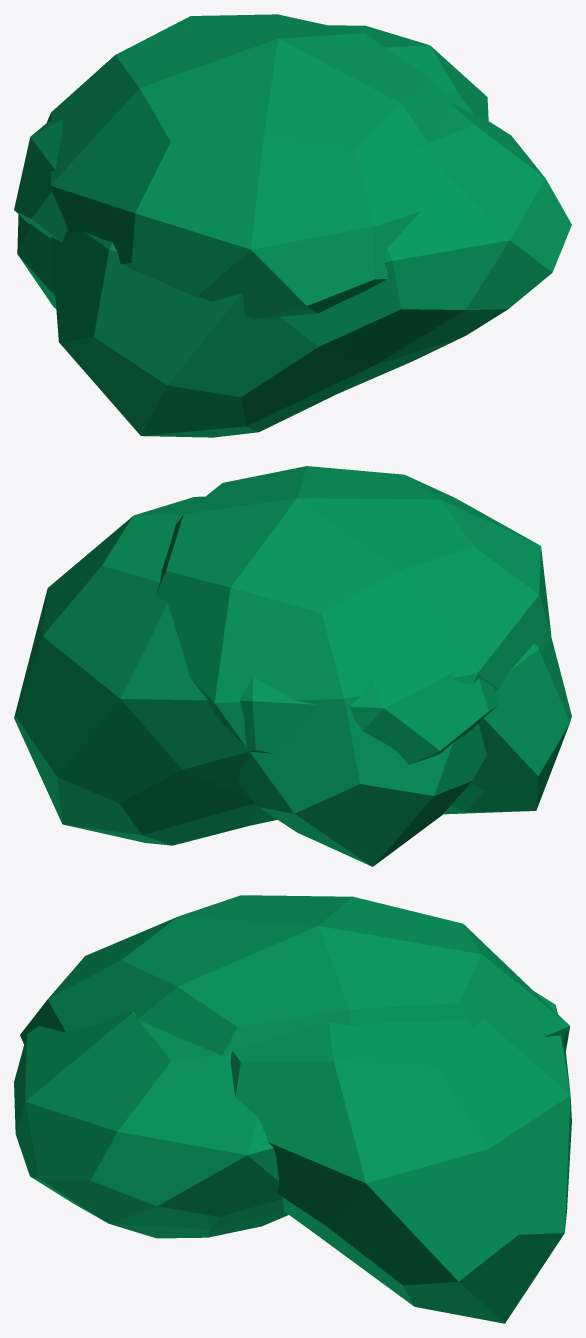
Rendered from Bush.gltf.
3 views of the same model, one above another, from view 1: azimuth 30°, elevation 25°; view 2: azimuth 150°, elevation 25°; view 3: azimuth 270°, elevation 25° (orthographic). The views are drawn at different scales.
Parts seen in each view (by area): view 1: Icosphere.002, Icosphere.001, Icosphere; view 2: Icosphere.002, Icosphere, Icosphere.001; view 3: Icosphere, Icosphere.002, Icosphere.001.
Boxes of the visible parts, x1,y1,x2,y2 form: Icosphere.002: [17, 14, 450, 319]; Icosphere.001: [51, 102, 571, 437]; Icosphere: [14, 25, 488, 242]; Icosphere.002: [155, 466, 551, 866]; Icosphere: [14, 496, 497, 845]; Icosphere.001: [443, 637, 571, 814]; Icosphere: [230, 991, 571, 1323]; Icosphere.002: [20, 895, 569, 1056]; Icosphere.001: [14, 1011, 288, 1238].
Size of the model in its own units: 3.87 by 2.64 by 3.83.
